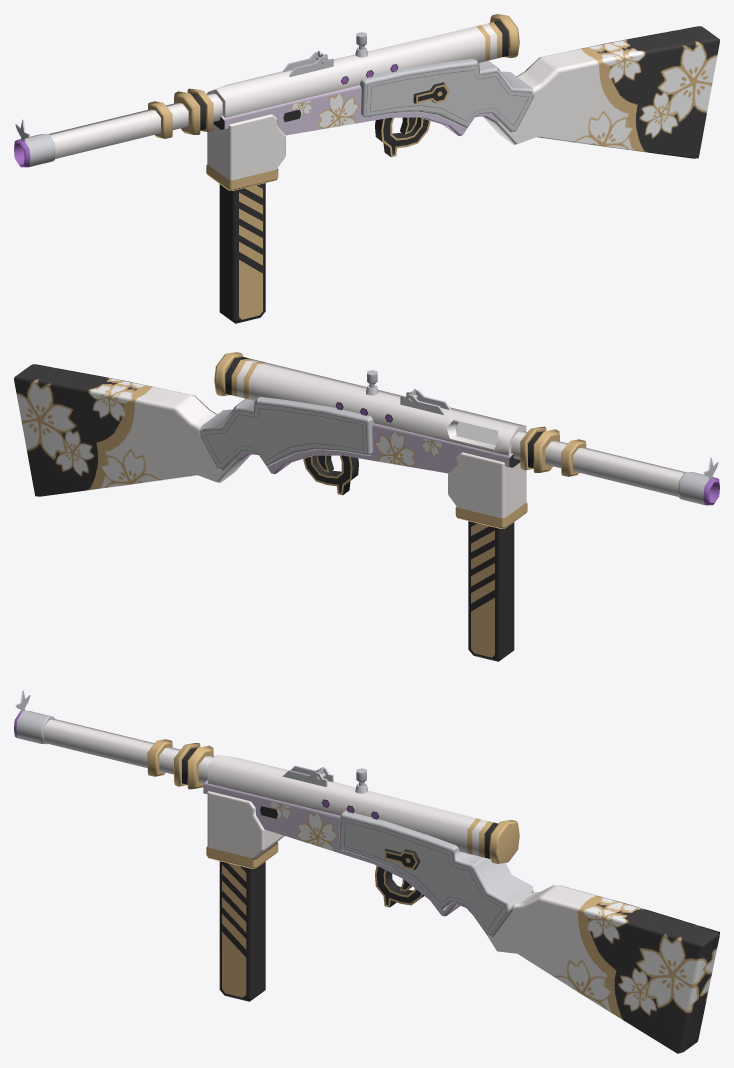
Rendered from blue_weapon.glb.
3 views of the same model, one above another, from view 1: azimuth 30°, elevation 25°; view 2: azimuth 150°, elevation 25°; view 3: azimuth 330°, elevation 25° (orthographic).
Parts seen in each view (by area): view 1: Object_2; view 2: Object_2; view 3: Object_2.
Boxes of the visible parts, x1,y1,x2,y2 form: Object_2: [14, 14, 719, 323]; Object_2: [14, 352, 719, 661]; Object_2: [14, 690, 719, 1053].
Size of the model in its own units: 0.6302 by 0.2198 by 0.0456.
Materials: 1 (1 with a texture image).
